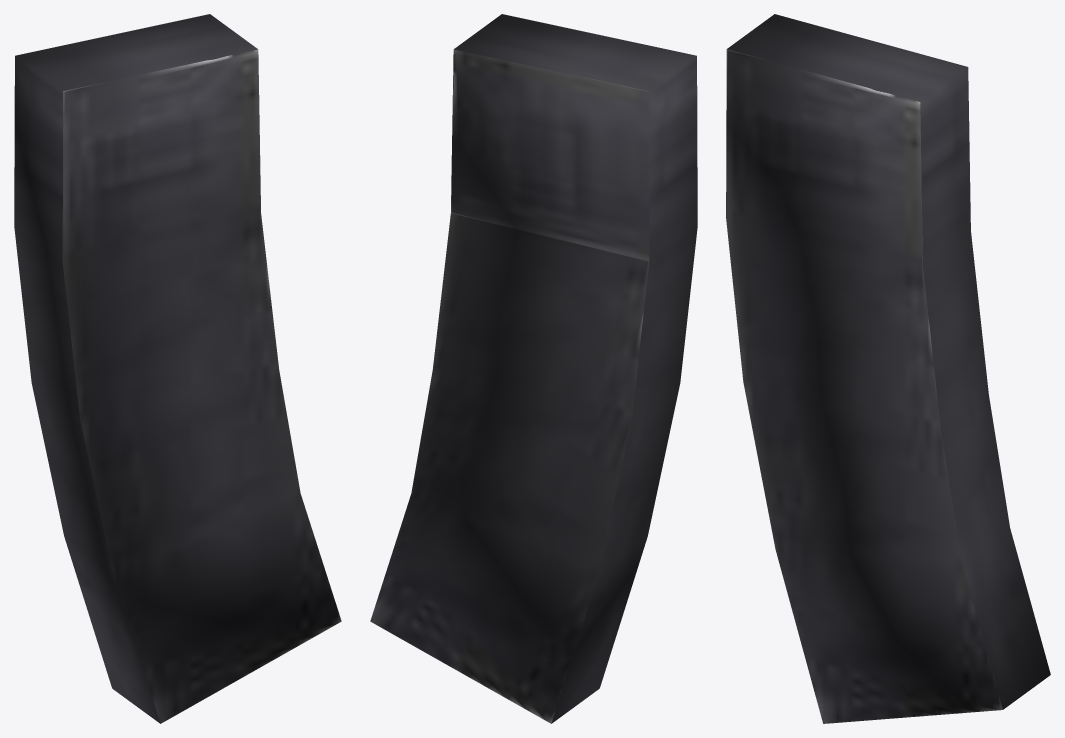
Rendered from AR_mag.FBX.
The picture shows the model from 3 angles, left to right: view 1: azimuth 30°, elevation 25°; view 2: azimuth 150°, elevation 25°; view 3: azimuth 330°, elevation 25°; orthographic projection.
Parts seen in each view (by area): view 1: AR_mag; view 2: AR_mag; view 3: AR_mag.
Boxes of the visible parts, box(x1,y1,x2,y2) form: AR_mag: box(14, 14, 341, 723); AR_mag: box(370, 14, 697, 723); AR_mag: box(726, 14, 1050, 723).
Size of the model in its own units: 7.43 by 16.69 by 2.23.
